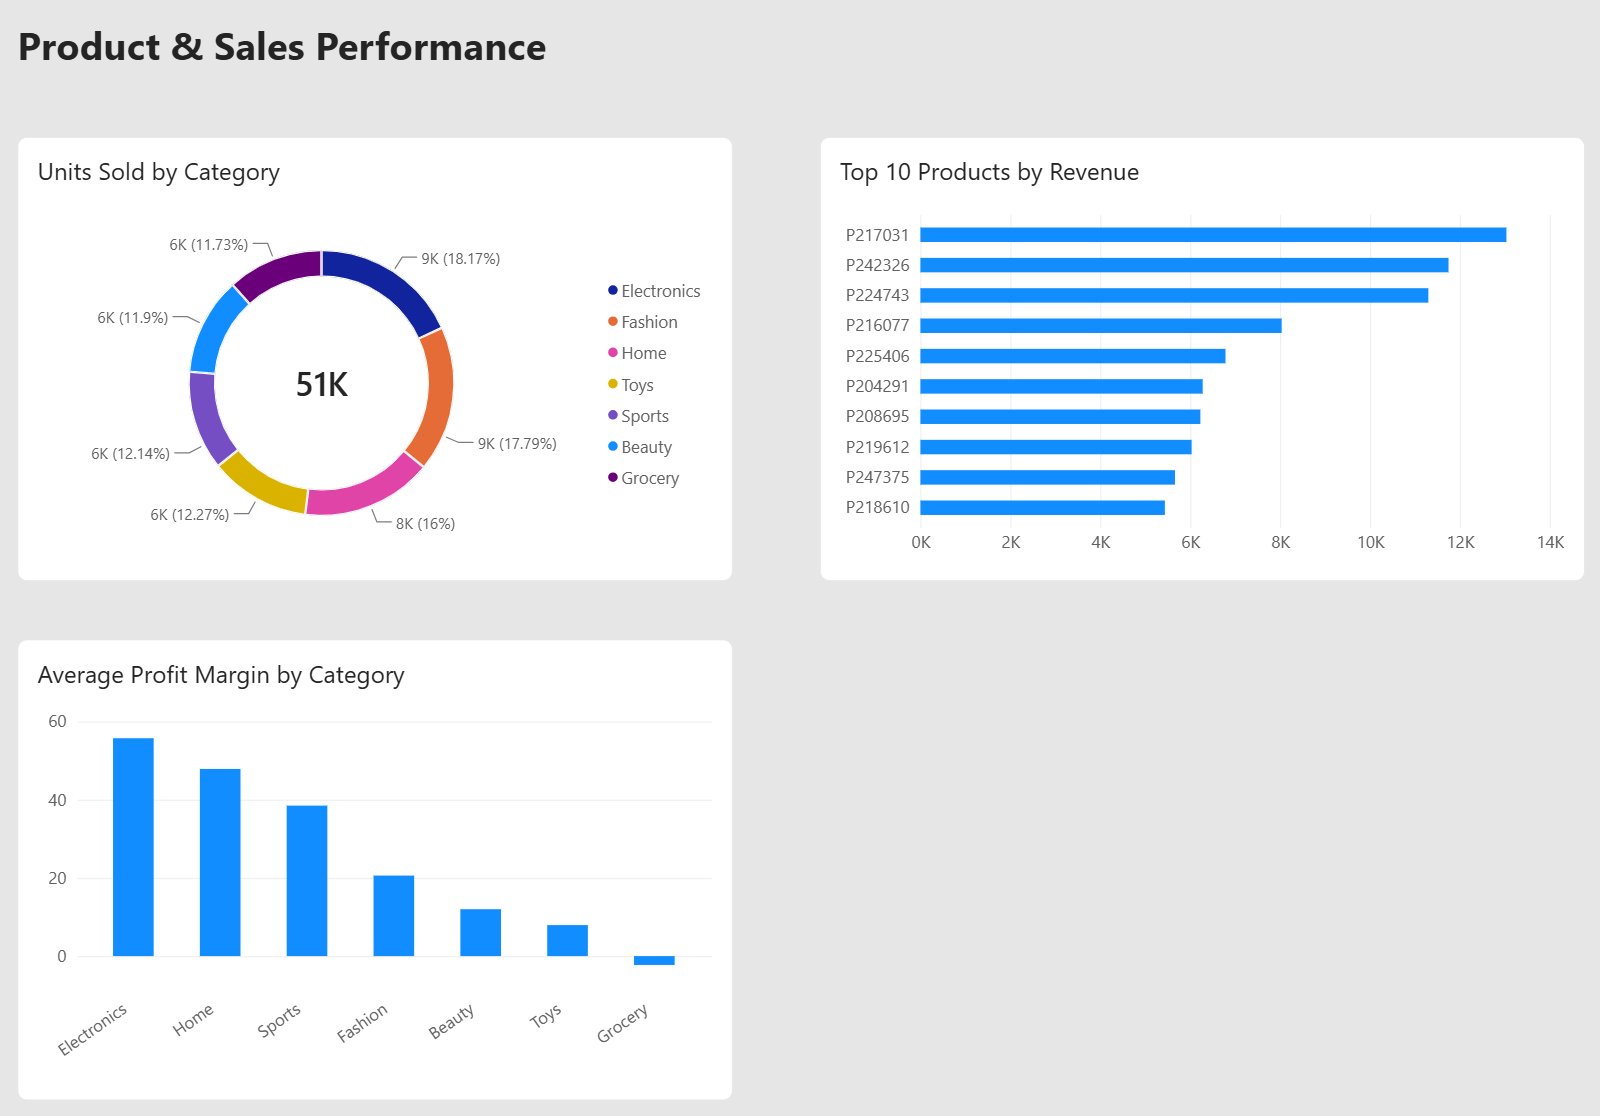

The dashboard page shown, as its layout file describes it:
{"tool":"powerbi","page":{"name":"Products & Sales","canvas":[1920,1080],"ordinal":1},"visuals":[{"type":"textbox","box":[10,0,280,280],"z":0},{"type":"textbox","title":"Product & Sales Performance","box":[224.2,62.6,452.5,55],"z":1000},{"type":"donutChart","title":"Units Sold by Category","fields":{"Category":["ecommerce_sales.category"],"Y":["Sum(ecommerce_sales.quantity)"]},"box":[224.2,168.6,596.2,370],"z":2000},{"type":"clusteredBarChart","title":"Top 10 Products by Revenue","fields":{"Category":["ecommerce_sales.product_id"],"Y":["Sum(ecommerce_sales.total_amount)"]},"box":[1082.8,168.6,637.5,370],"z":3000},{"type":"clusteredColumnChart","title":"Average Profit Margin by Category","fields":{"Category":["ecommerce_sales.category"],"Y":["ecommerce_sales.average_profit_margin"]},"box":[224.2,660.5,596.2,383.8],"z":5000}]}

Visuals, with their boxes on the page's 1920x1080 design canvas (x1, y1, x2, y2). These are canvas units, not pixel positions in the 1600x1116 screenshot, which may show the page scaled, cropped or inside an application window:
textbox: <box>10,0,290,280</box>
"Product & Sales Performance" textbox: <box>224,63,677,118</box>
"Units Sold by Category" donutChart: <box>224,169,820,539</box>
"Top 10 Products by Revenue" clusteredBarChart: <box>1083,169,1720,539</box>
"Average Profit Margin by Category" clusteredColumnChart: <box>224,660,820,1044</box>
